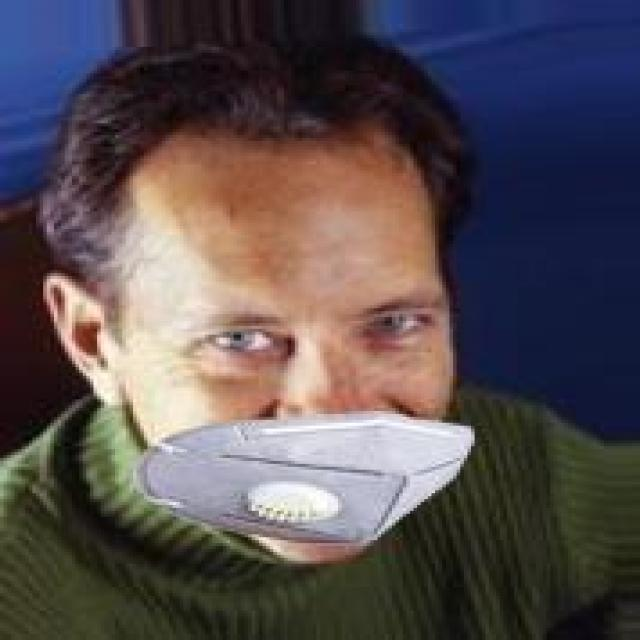mask: (47, 38, 500, 570)
